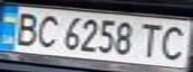2: (78, 16, 100, 54)
5: (97, 17, 118, 55)
6: (57, 15, 84, 52)
8: (112, 19, 139, 56)
B: (6, 10, 42, 47)
C: (154, 23, 193, 62), (33, 12, 63, 50)
T: (136, 20, 166, 58)
